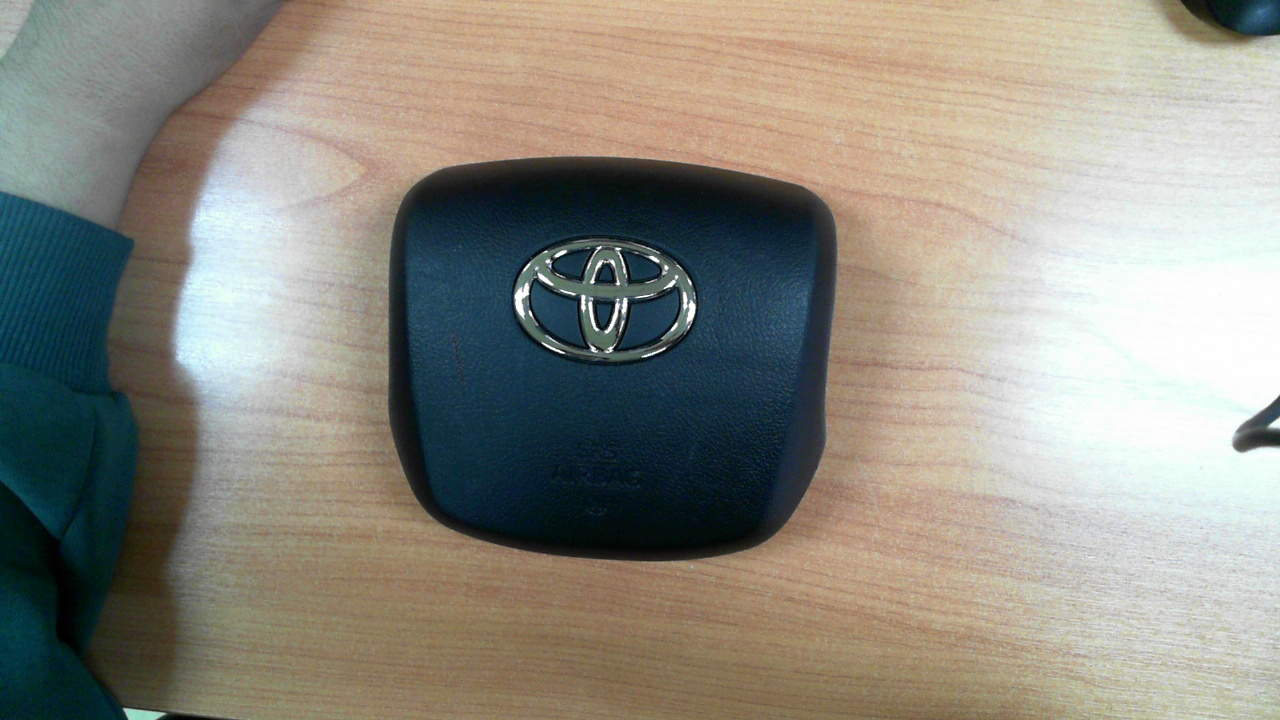Airbag: (386, 155, 839, 562)
Toyota: (513, 237, 697, 363)
